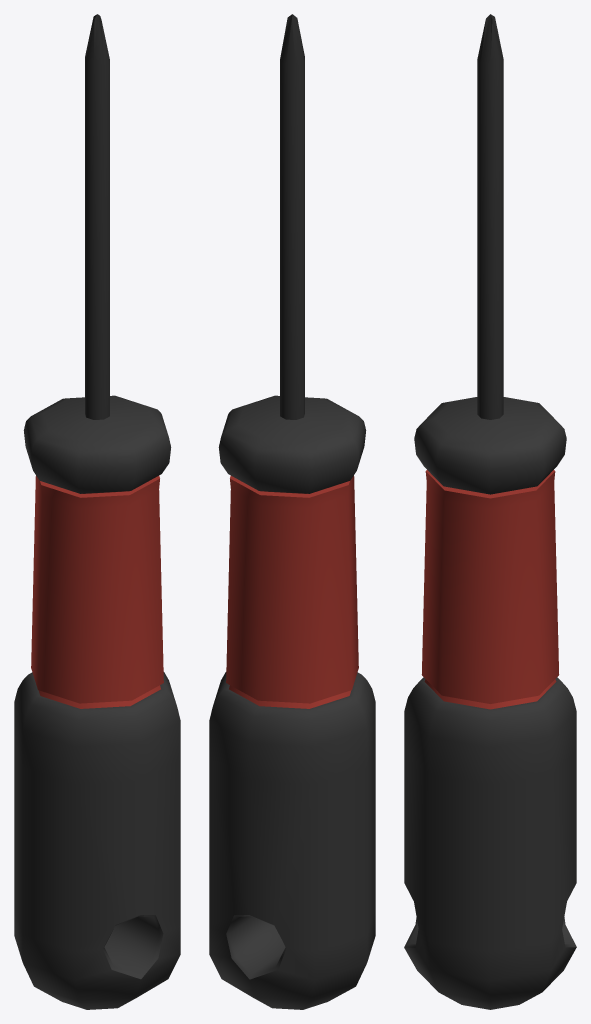
Rendered from tool_screwdriver.fbx.
The picture shows the model from 3 angles, left to right: view 1: azimuth 30°, elevation 25°; view 2: azimuth 150°, elevation 25°; view 3: azimuth 270°, elevation 25°; orthographic projection.
Parts seen in each view (by area): view 1: tool_screwdriver; view 2: tool_screwdriver; view 3: tool_screwdriver.
Part boxes in pixels (x1,y1,x2,y2): tool_screwdriver: [14, 14, 180, 1009]; tool_screwdriver: [209, 14, 375, 1009]; tool_screwdriver: [404, 14, 576, 1009].
Size of the model in its own units: 3.65 by 23.1 by 3.65.
